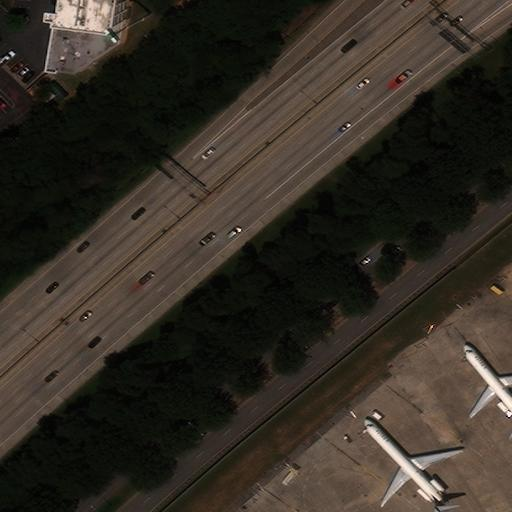Medium Civil Transport: (361, 415, 463, 512), (463, 341, 511, 429)
